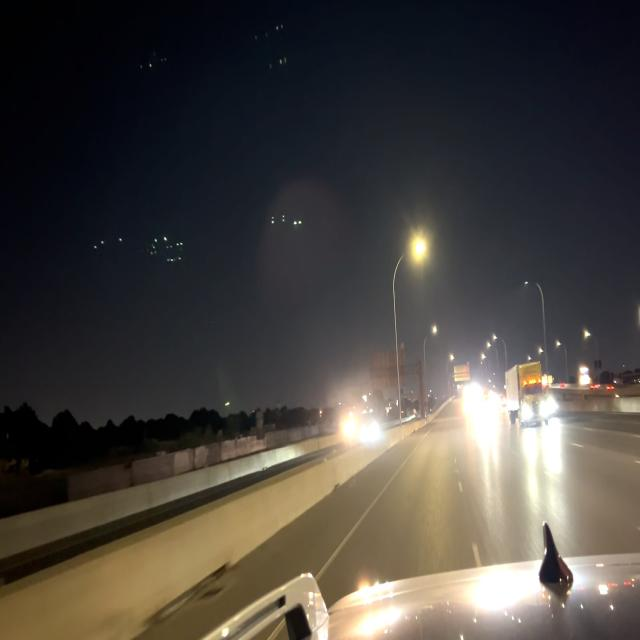back-of-sign: (367, 343, 407, 393), (453, 360, 472, 385)
